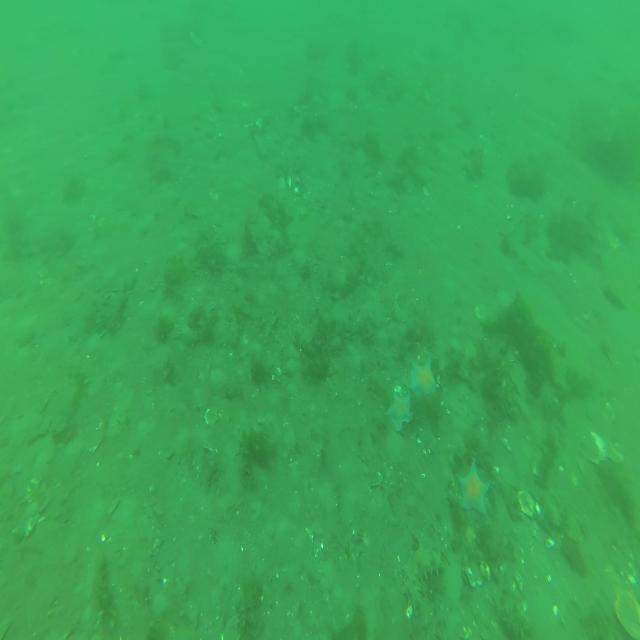holothurian: (401, 540, 443, 613)
scallop: (613, 583, 640, 640)
starfish: (456, 457, 492, 514), (407, 354, 438, 402), (384, 386, 414, 433)
